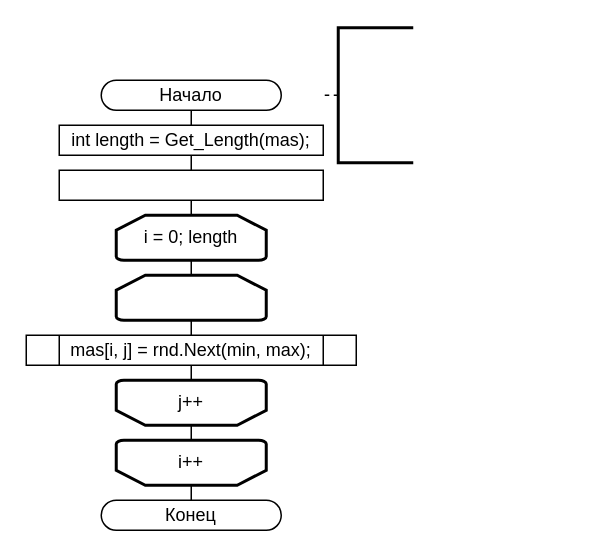
This 591x557 diagram has some shape labels left out. The shapes that lost their labels are listed below. From the top down, each one's centre as x and y in pixels, then its label:
At [375,95]: "Входные данные: int[,] mas, int min, int max".
At [190,184]: "Random rnd = new Random();".
At [190,297]: "j = 0; length".
